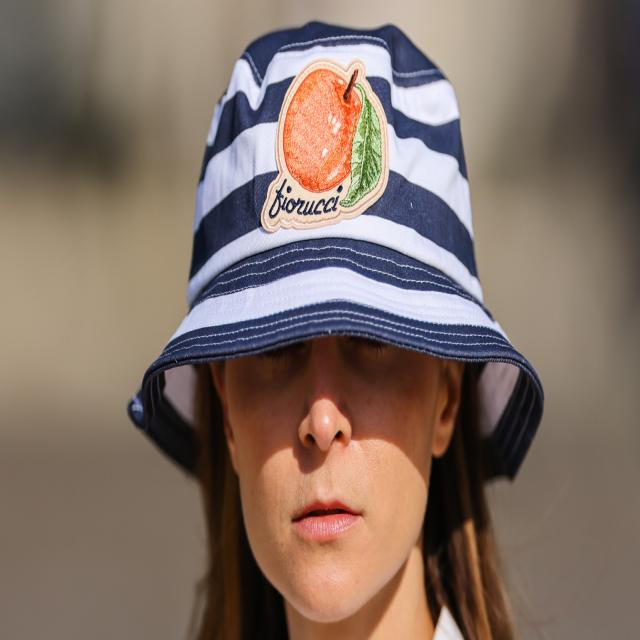hat: (130, 20, 542, 627)
